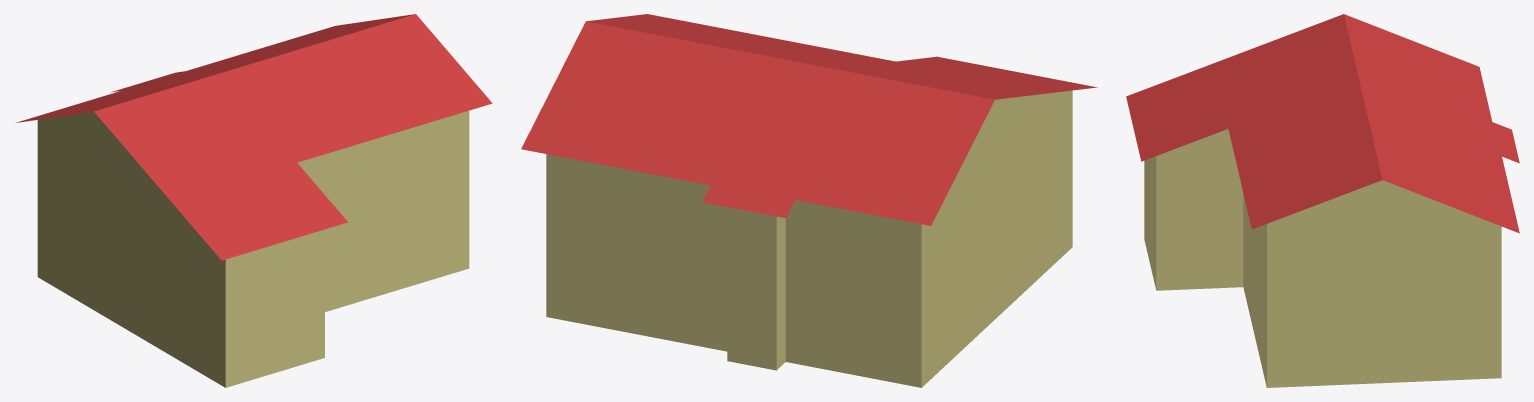
3 renders of one model, left to right at view 1: azimuth 30°, elevation 25°; view 2: azimuth 150°, elevation 25°; view 3: azimuth 270°, elevation 25°, orthographic. The views are drawn at different scales.
Size of the model in its own units: 18.83 by 17.69 by 10.42.
